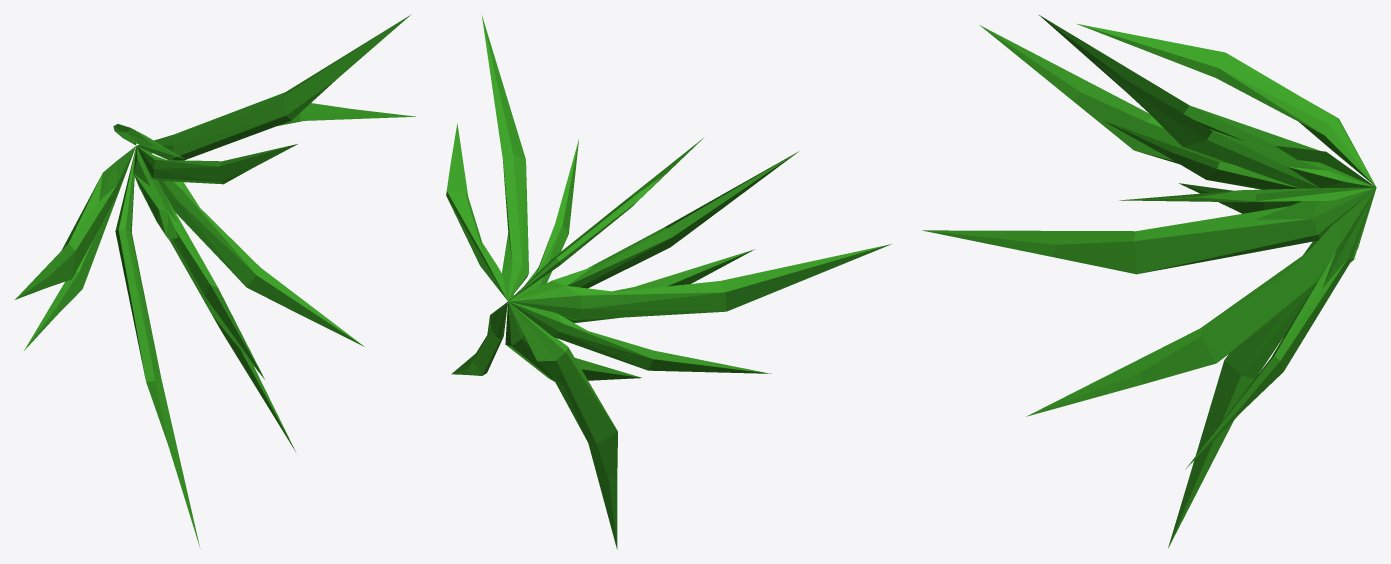
The model's file is grass.glb.
The picture shows the model from 3 angles, left to right: view 1: azimuth 30°, elevation 25°; view 2: azimuth 150°, elevation 25°; view 3: azimuth 270°, elevation 25°; orthographic projection. The views are drawn at different scales.
Parts seen in each view (by area): view 1: Cogon.Grass.000; view 2: Cogon.Grass.000; view 3: Cogon.Grass.000.
Boxes of the visible parts, x1,y1,x2,y2 form: Cogon.Grass.000: (15,14,415,548); Cogon.Grass.000: (446,16,891,549); Cogon.Grass.000: (922,14,1376,548).
Bounding box in the file's own units: 0.1973 × 0.2217 × 0.1553.
